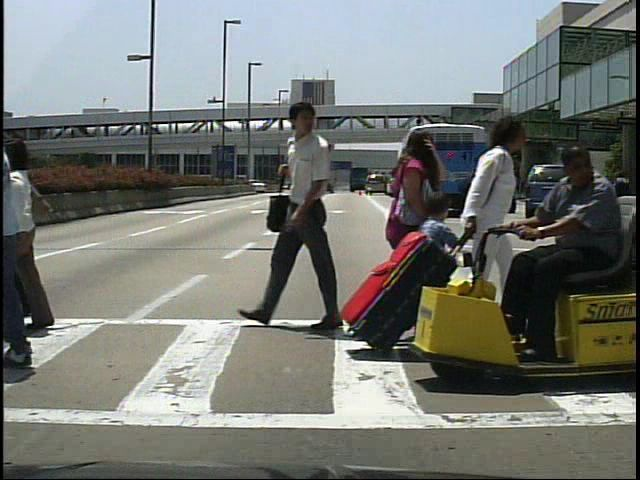person: (511, 144, 630, 371), (252, 101, 344, 321), (462, 102, 538, 341), (377, 124, 444, 354), (11, 133, 75, 329), (415, 186, 459, 319), (582, 162, 602, 218), (499, 166, 517, 219), (495, 164, 514, 213)
